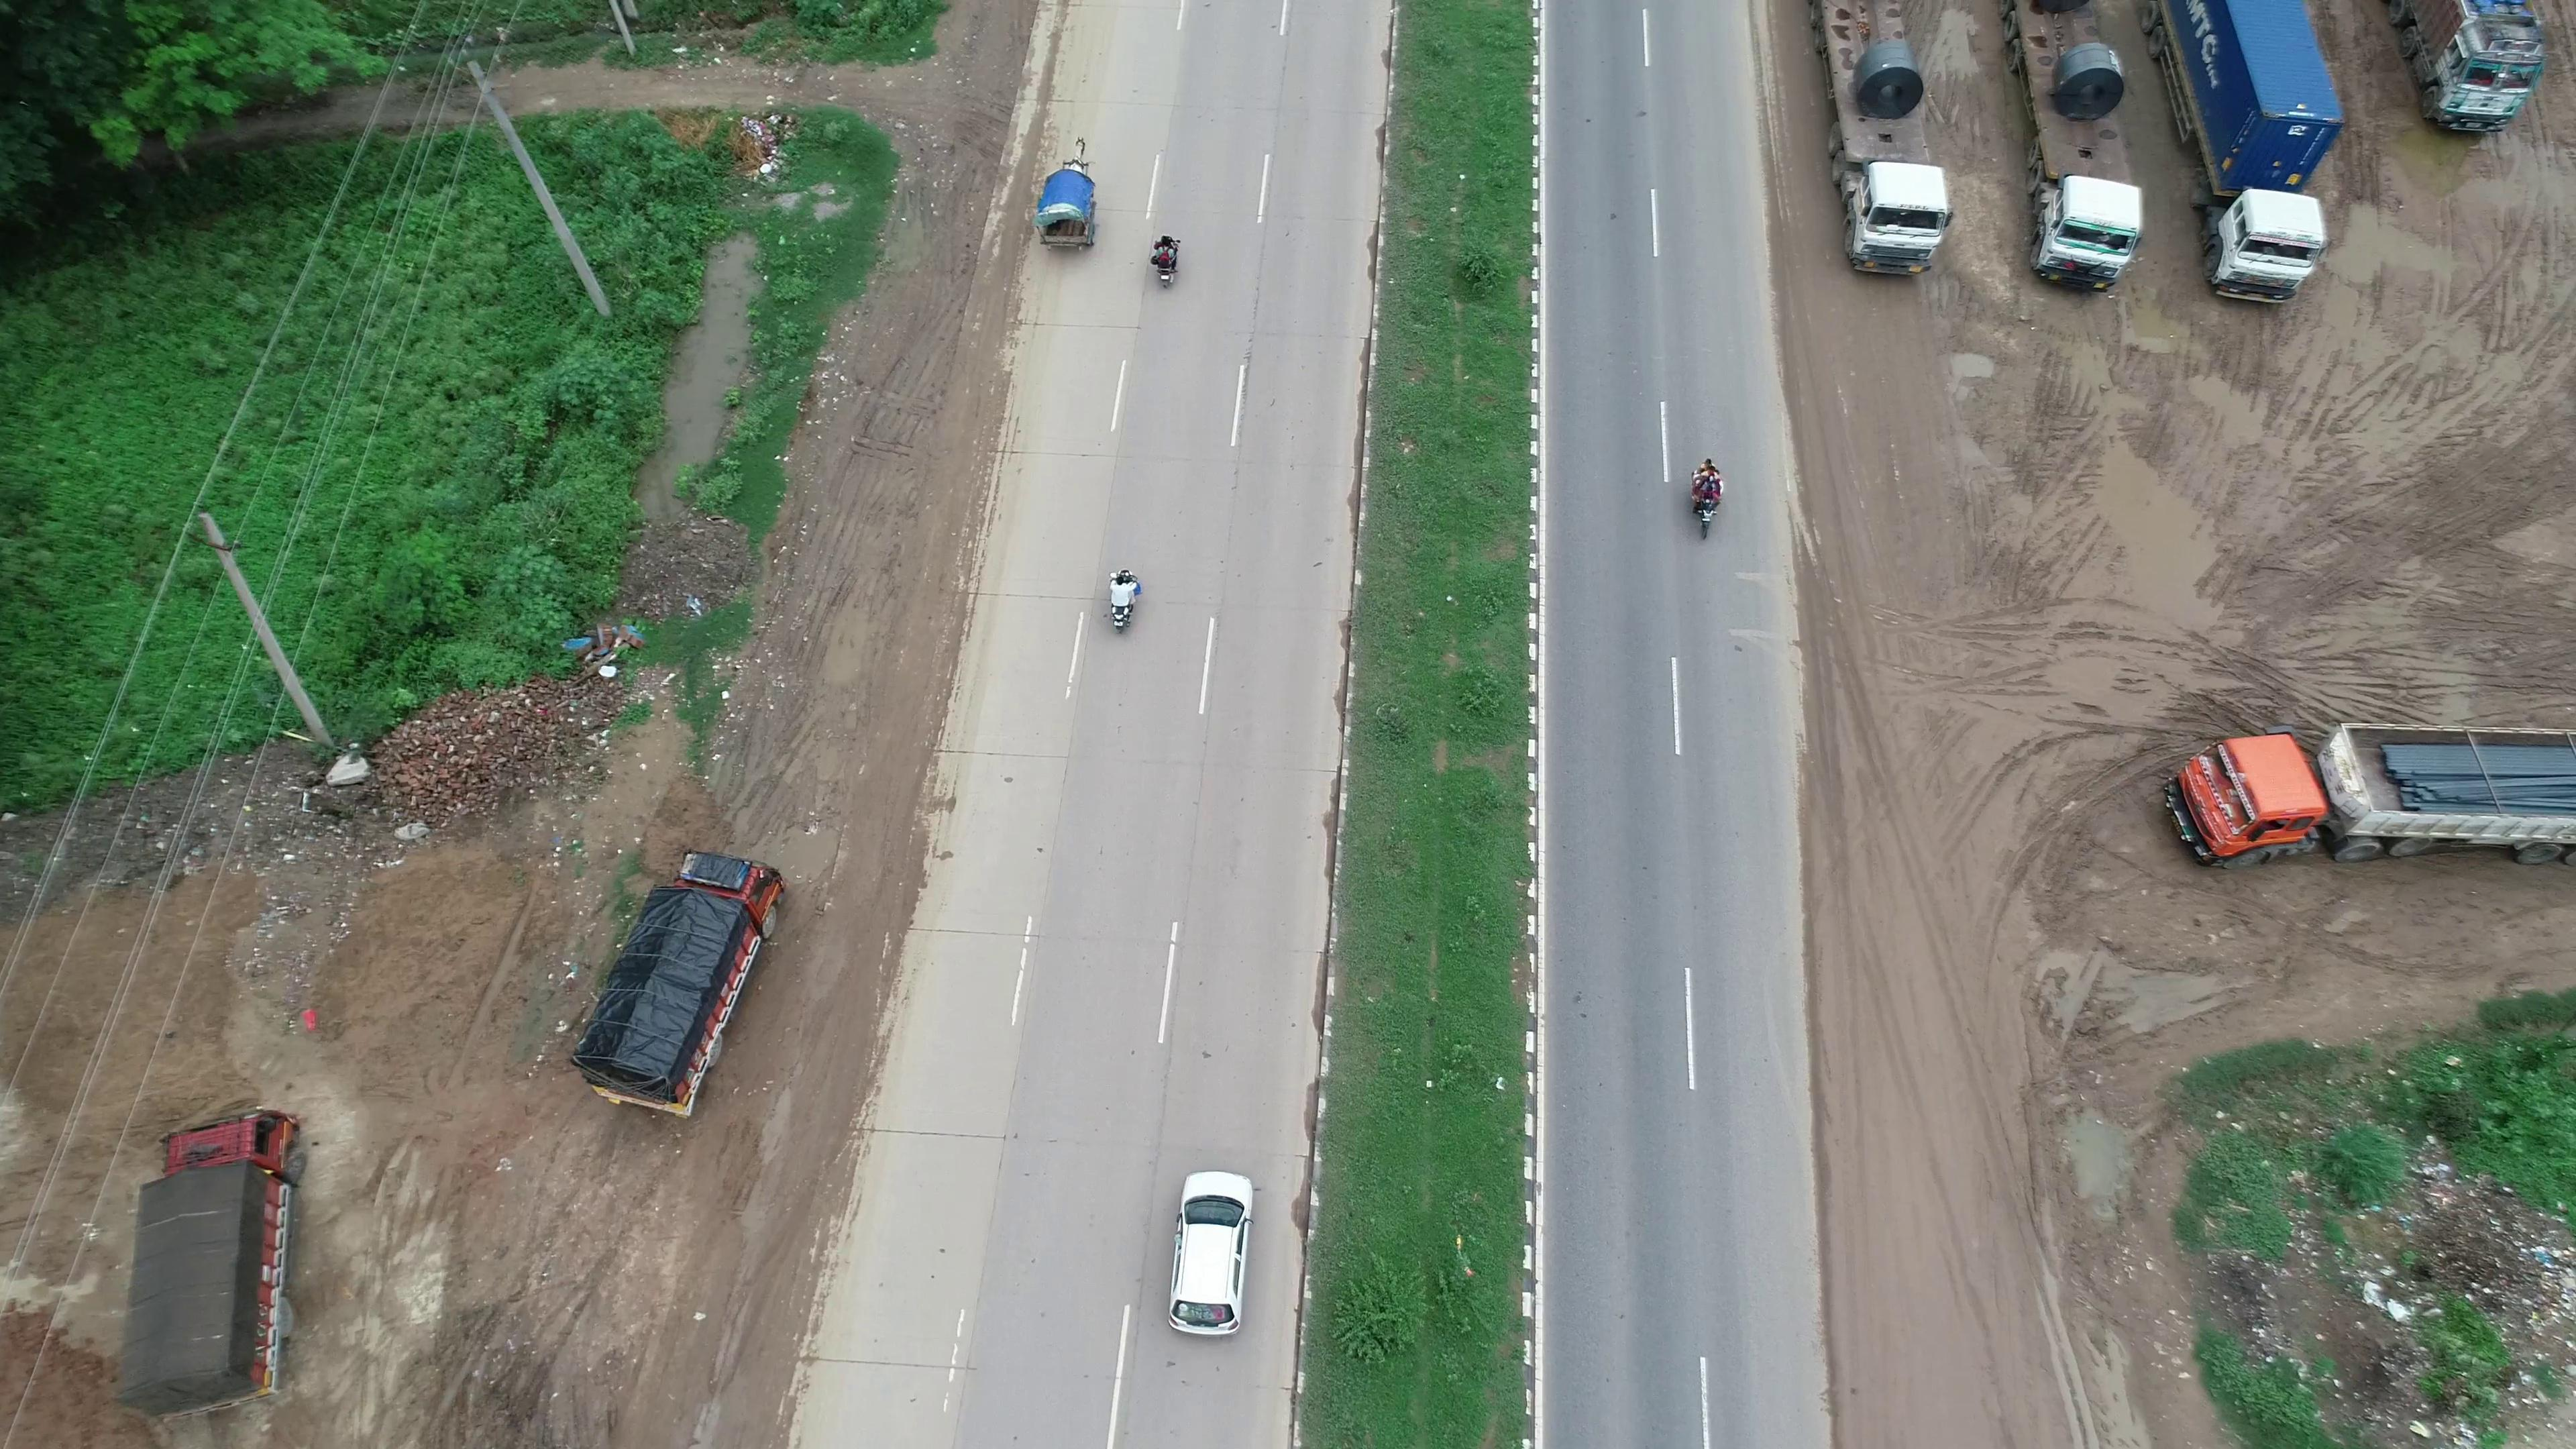Muddy_road: (1829, 874, 2059, 1449), (1778, 292, 2005, 869)
